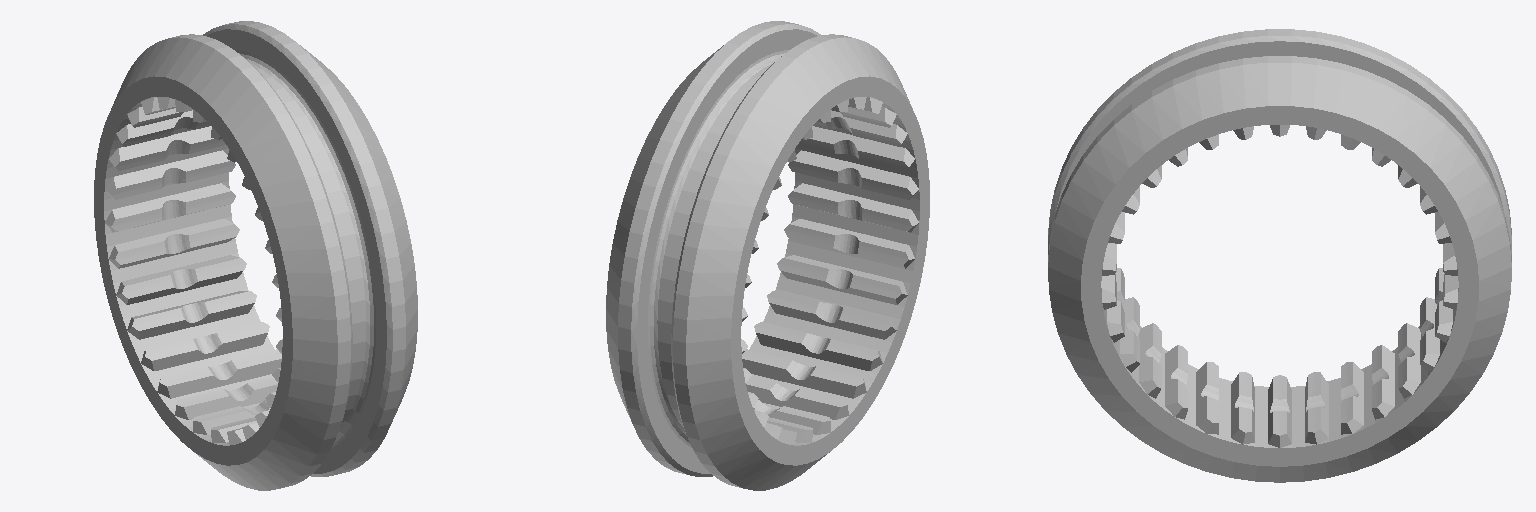
Rendered from 72. Муфта синхронизатора.obj.
3 renders of one model, left to right at view 1: azimuth 30°, elevation 25°; view 2: azimuth 150°, elevation 25°; view 3: azimuth 270°, elevation 25°, orthographic.
Visible parts, largest first — view 1: Твердое тело1; view 2: Твердое тело1; view 3: Твердое тело1.
Part boxes in pixels (x1,y1,x2,y2): Твердое тело1: (94, 21, 417, 490); Твердое тело1: (606, 21, 929, 490); Твердое тело1: (1048, 29, 1511, 482).
Bounding box in the file's own units: 33 × 106 × 106.